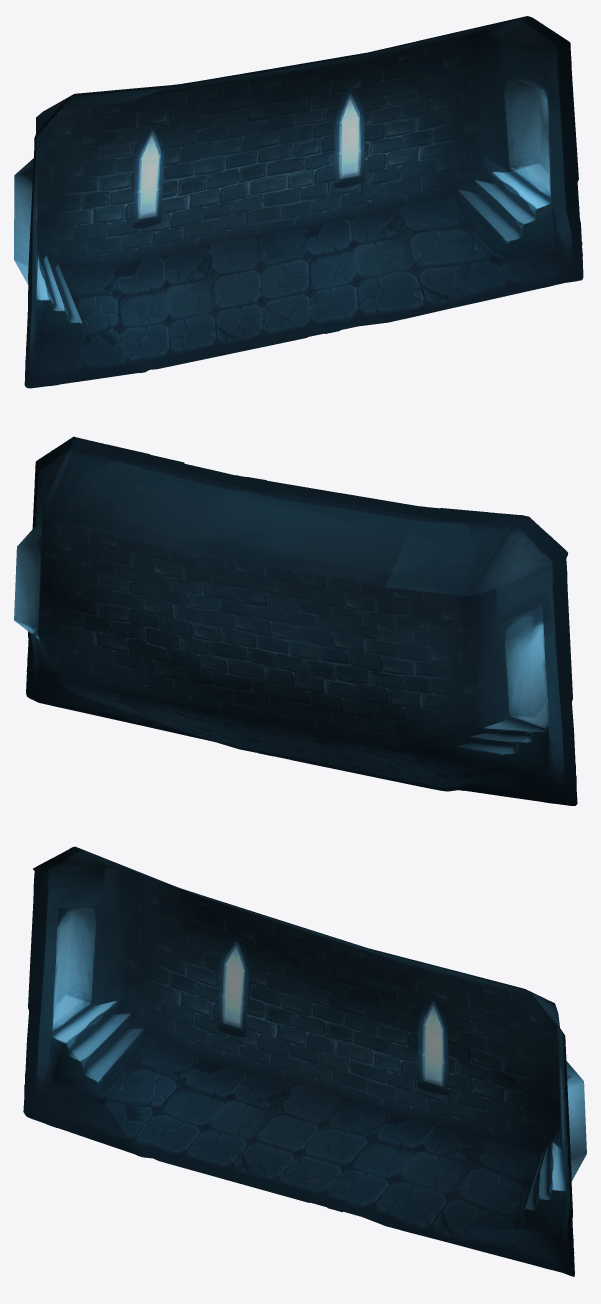
The model's file is Dark Forest Crypt Interior.FBX.
3 views of the same model, one above another, from view 1: azimuth 30°, elevation 25°; view 2: azimuth 150°, elevation 25°; view 3: azimuth 330°, elevation 25° (orthographic).
Parts seen in each view (by area): view 1: Crypt interior; view 2: Crypt interior; view 3: Crypt interior.
Boxes of the visible parts, left/top/right/bottom form: Crypt interior: left=14, top=16, right=583, bottom=388; Crypt interior: left=14, top=436, right=577, bottom=805; Crypt interior: left=23, top=846, right=586, bottom=1276.
Size of the model in its own units: 1377 by 201 by 751.
